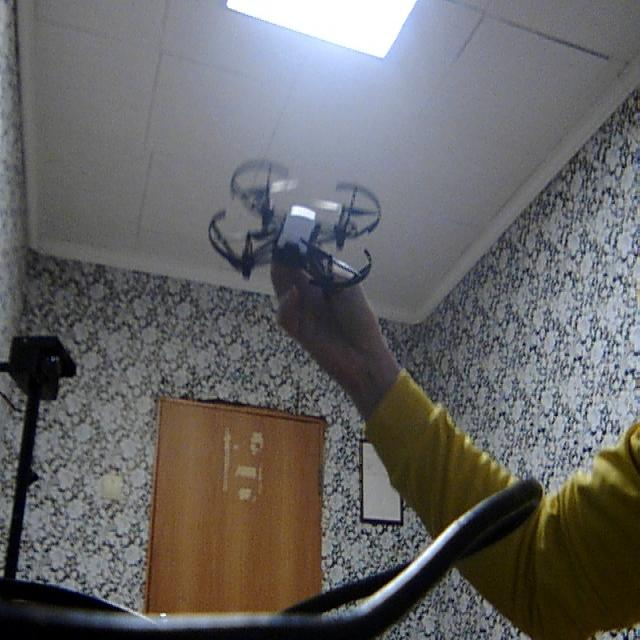drone: (200, 142, 395, 300)
